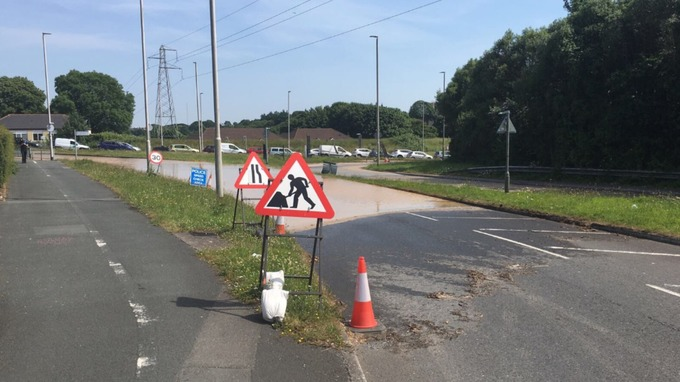cone: (340, 254, 388, 336), (204, 171, 216, 192)
